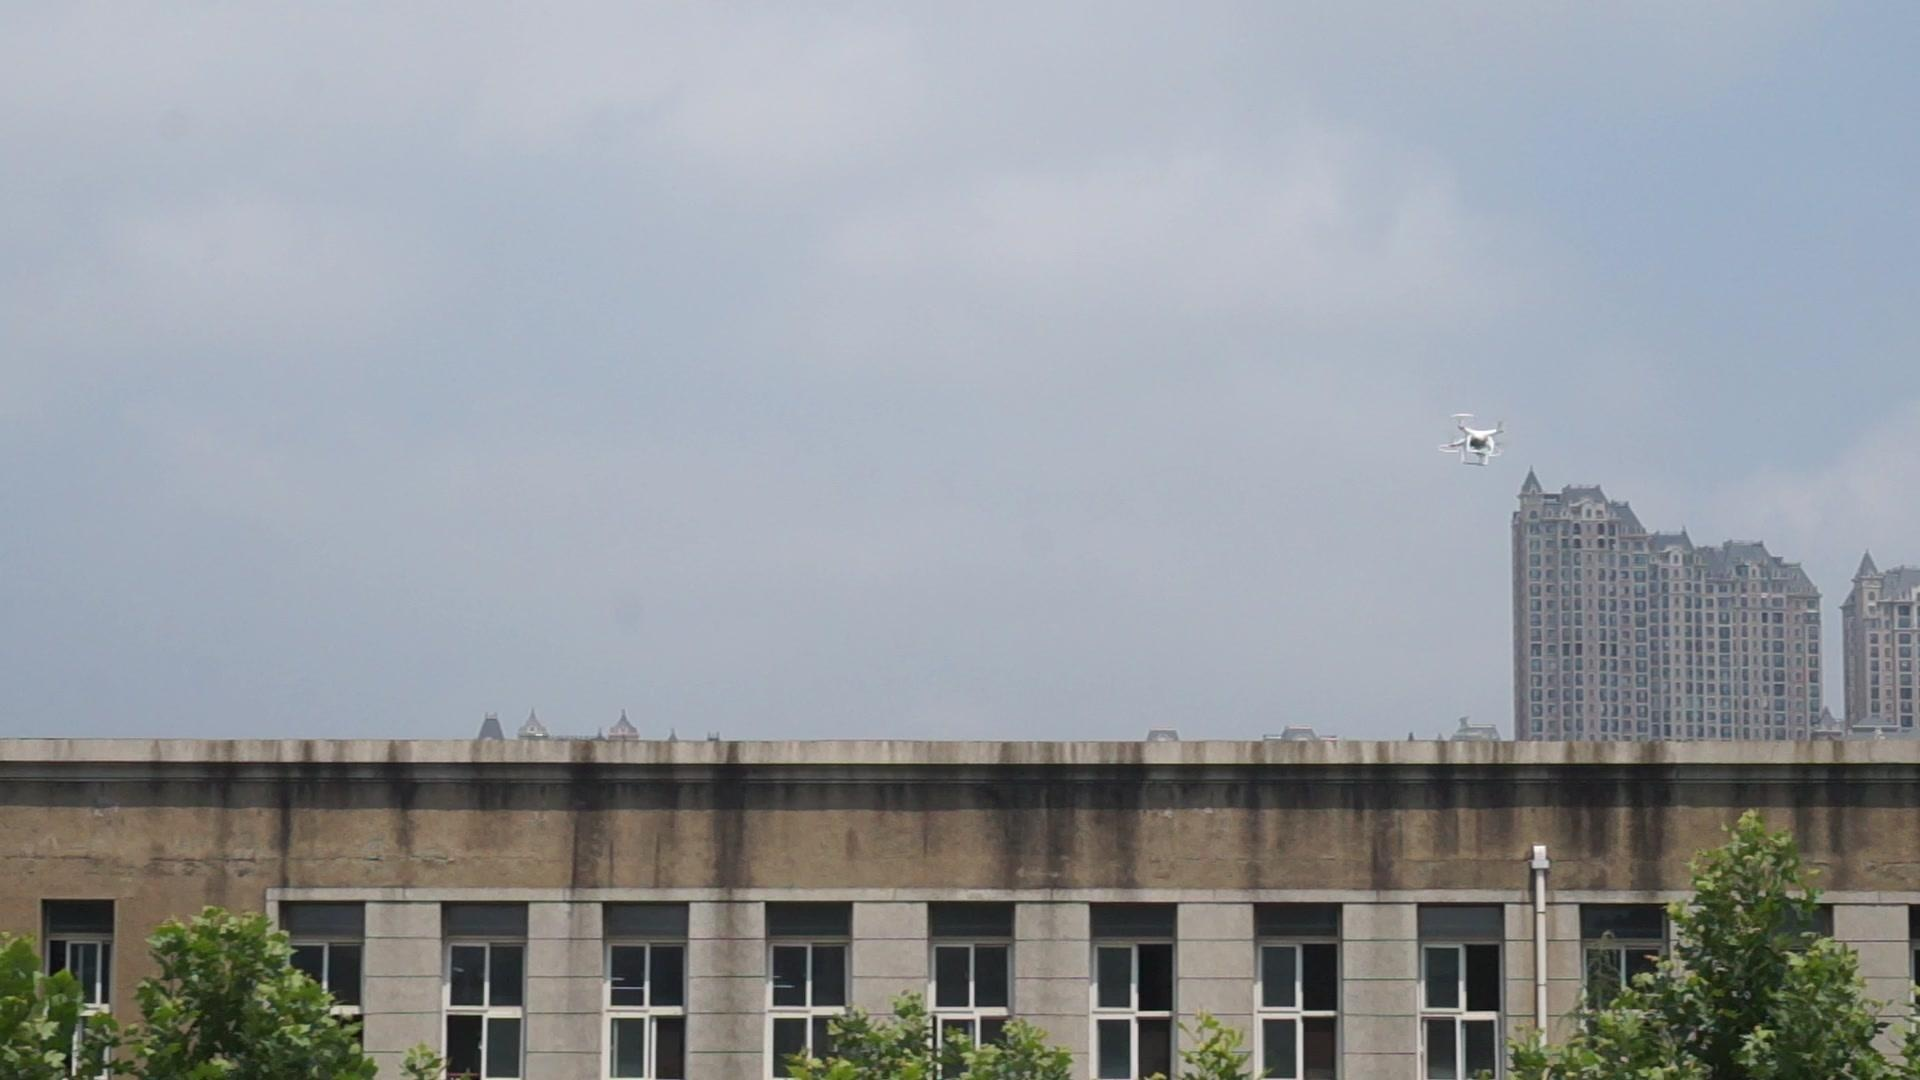UAV: (1439, 414, 1506, 467)
